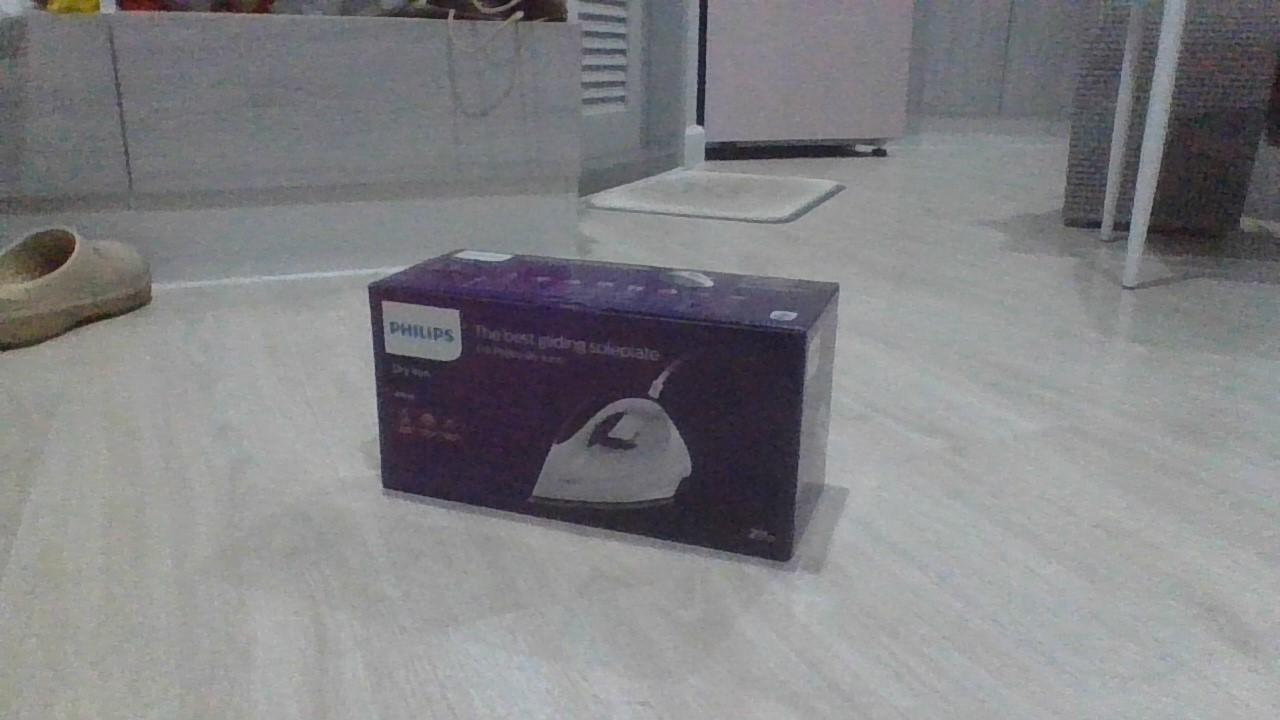Dryer: (362, 242, 843, 565)
